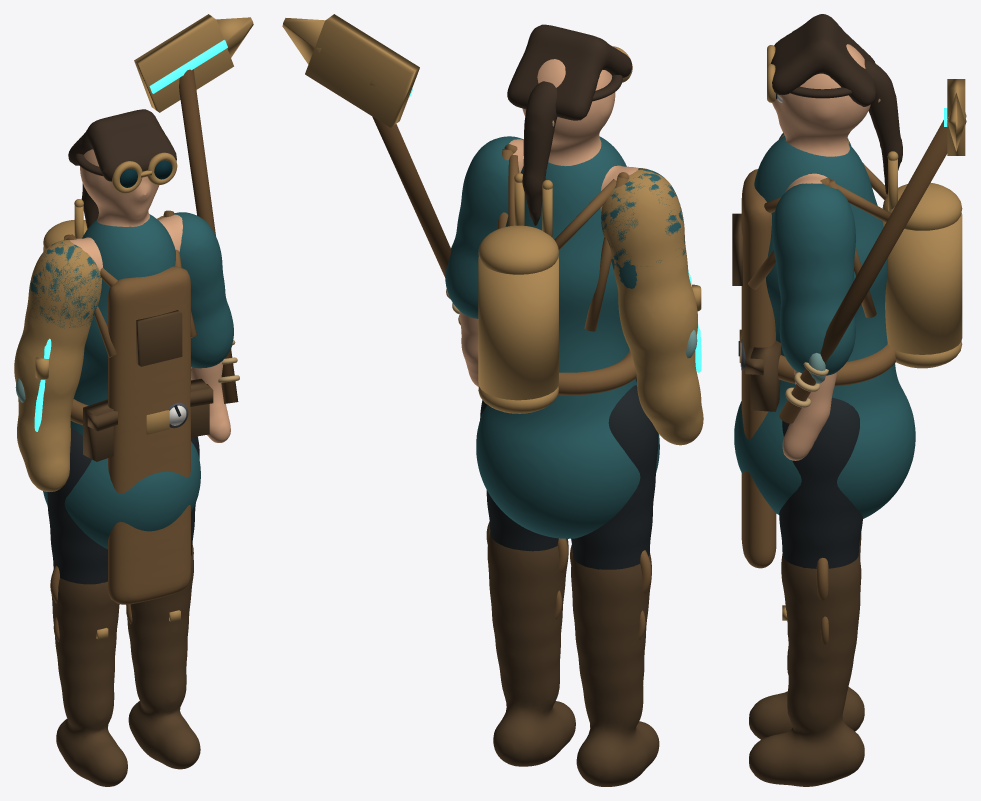
Rendered from 3D模型 char_tinkerer.glb.
The picture shows the model from 3 angles, left to right: view 1: azimuth 30°, elevation 25°; view 2: azimuth 150°, elevation 25°; view 3: azimuth 270°, elevation 25°; orthographic projection. The views are drawn at different scales.
Parts seen in each view (by area): view 1: char_tinkerer_boots.001, char_tinkerer_apron.001, char_tinkerer_mecharm.001, char_tinkerer_shirt.001, char_tinkerer_sleeves.001, char_tinkerer_body, char_tinkerer_pants.001, char_tinkerer_pickhead, char_tinkerer_hair.001, char_tinkerer_pickshaft, char_tinkerer_apronpocket, char_tinkerer_pouch1 (+9 smaller); view 2: char_tinkerer_boots.001, char_tinkerer_shirt.001, char_tinkerer_mecharm.001, char_tinkerer_tank, char_tinkerer_pants.001, char_tinkerer_sleeves.001, char_tinkerer_pickhead, char_tinkerer_hair.001, char_tinkerer_body, char_tinkerer_ponytail.001, char_tinkerer_tanktop, char_tinkerer_pickshaft (+5 smaller); view 3: char_tinkerer_shirt.001, char_tinkerer_boots.001, char_tinkerer_sleeves.001, char_tinkerer_tank, char_tinkerer_pants.001, char_tinkerer_apron.001, char_tinkerer_body, char_tinkerer_hair.001, char_tinkerer_pickshaft, char_tinkerer_ponytail.001, char_tinkerer_tanktop, char_tinkerer_belt (+11 smaller).
Boxes of the visible parts, x1,y1,x2,y2 form: char_tinkerer_boots.001: (51, 552, 200, 786); char_tinkerer_apron.001: (108, 266, 190, 604); char_tinkerer_mecharm.001: (14, 240, 101, 491); char_tinkerer_shirt.001: (43, 214, 200, 549); char_tinkerer_sleeves.001: (30, 212, 233, 368); char_tinkerer_body: (70, 149, 230, 442); char_tinkerer_pants.001: (47, 428, 199, 584); char_tinkerer_pickhead: (134, 14, 233, 112); char_tinkerer_hair.001: (68, 109, 176, 181); char_tinkerer_pickshaft: (179, 69, 238, 403); char_tinkerer_apronpocket: (136, 310, 182, 366); char_tinkerer_pouch1: (83, 399, 113, 461); char_tinkerer_boots.001: (487, 532, 659, 786); char_tinkerer_shirt.001: (476, 136, 659, 538); char_tinkerer_mecharm.001: (601, 168, 703, 445); char_tinkerer_tank: (478, 256, 558, 400); char_tinkerer_pants.001: (480, 385, 658, 569); char_tinkerer_sleeves.001: (445, 136, 685, 318); char_tinkerer_pickhead: (305, 14, 419, 127); char_tinkerer_hair.001: (507, 24, 632, 120); char_tinkerer_body: (459, 59, 638, 386); char_tinkerer_ponytail.001: (522, 81, 557, 225); char_tinkerer_tanktop: (478, 225, 558, 274); char_tinkerer_pickshaft: (372, 116, 451, 277); char_tinkerer_shirt.001: (734, 136, 915, 518); char_tinkerer_boots.001: (749, 533, 864, 786); char_tinkerer_sleeves.001: (772, 133, 855, 375); char_tinkerer_tank: (882, 213, 962, 354); char_tinkerer_pants.001: (779, 397, 862, 568); char_tinkerer_apron.001: (741, 169, 776, 568); char_tinkerer_body: (772, 44, 870, 460); char_tinkerer_hair.001: (770, 14, 876, 106); char_tinkerer_pickshaft: (779, 120, 947, 423); char_tinkerer_ponytail.001: (864, 59, 902, 194); char_tinkerer_tanktop: (882, 183, 962, 230); char_tinkerer_belt: (778, 344, 895, 386).
Bounding box in the file's own units: 0.8638 × 1.85 × 0.5165.
